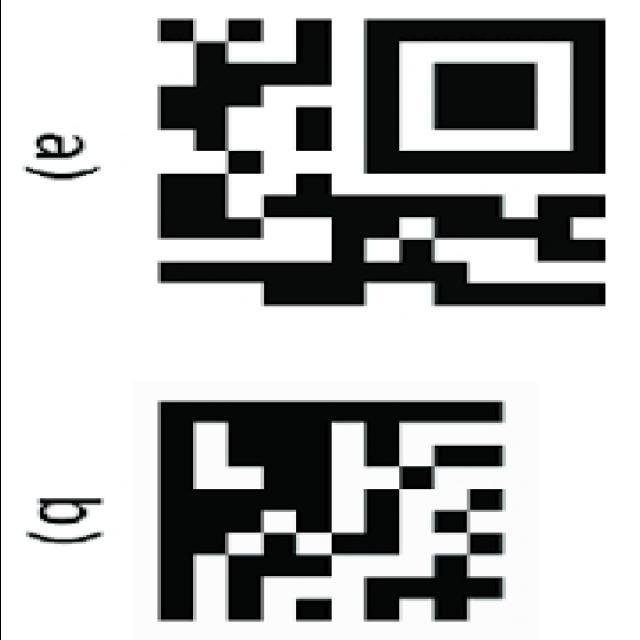Data-Matrix: (132, 381, 537, 640)
